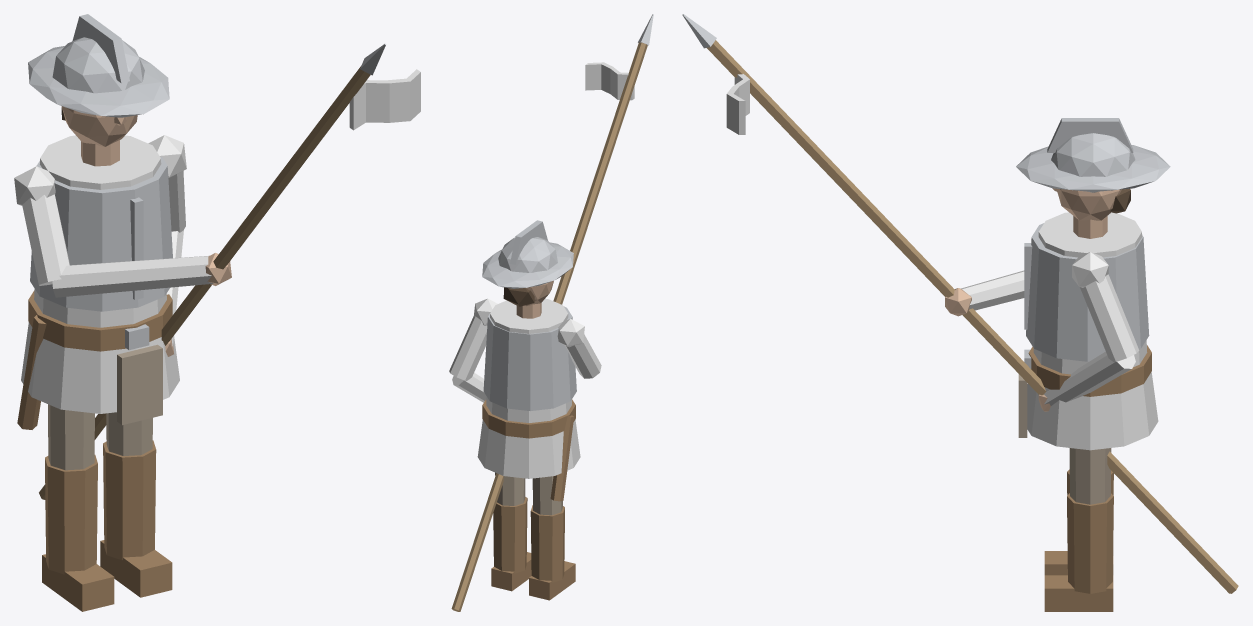
Rendered from civ_unit_pikeman.glb.
3 renders of one model, left to right at view 1: azimuth 30°, elevation 25°; view 2: azimuth 150°, elevation 25°; view 3: azimuth 270°, elevation 25°, orthographic. The views are drawn at different scales.
Parts seen in each view (by area): view 1: civ_unit_pikeman; view 2: civ_unit_pikeman; view 3: civ_unit_pikeman.
Boxes of the visible parts, box(x1,y1,x2,y2) form: civ_unit_pikeman: box(14, 14, 420, 611); civ_unit_pikeman: box(449, 14, 653, 611); civ_unit_pikeman: box(682, 14, 1238, 611).
Size of the model in its own units: 0.6885 by 2.3 by 1.94.
